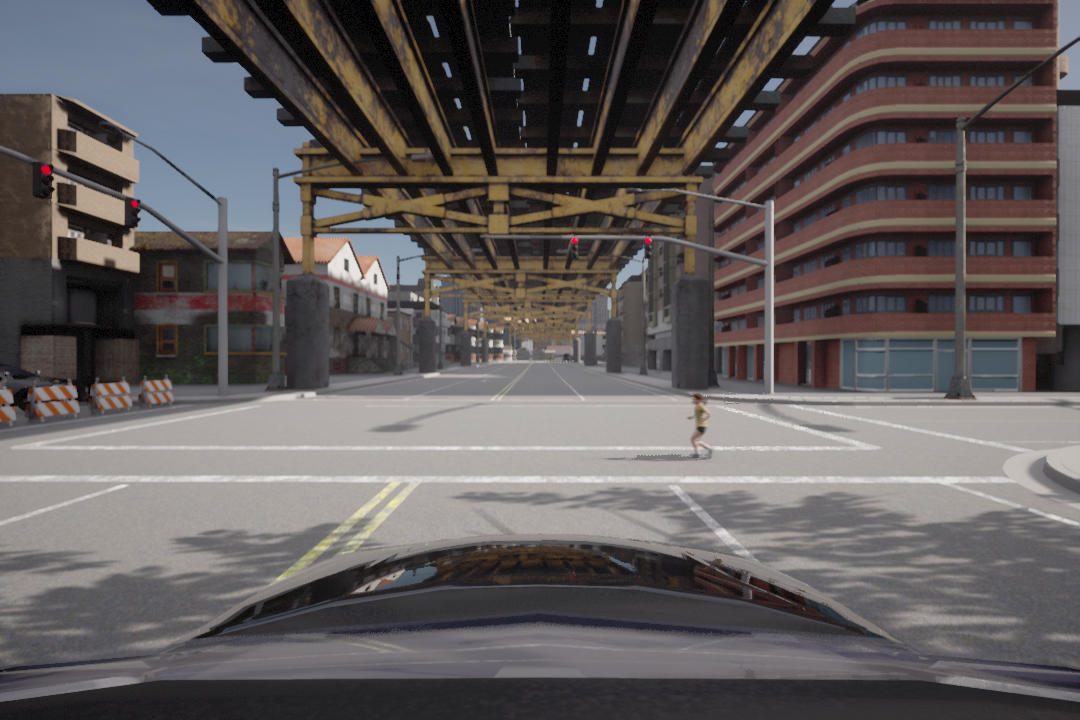TrafficLight: (32, 157, 58, 204), (124, 194, 144, 236), (642, 235, 655, 264), (569, 236, 582, 260)
